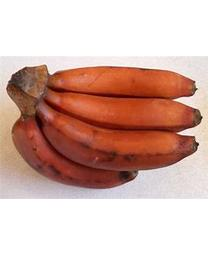banana: (6, 63, 202, 189)
